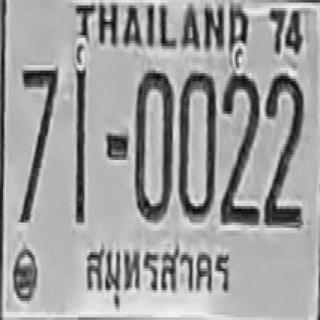N00: (134, 68, 173, 220), (178, 70, 216, 220)
N01: (75, 66, 86, 224)
N02: (263, 70, 304, 225), (220, 69, 259, 224)
N07: (20, 65, 58, 222)
P58: (81, 236, 232, 314)
